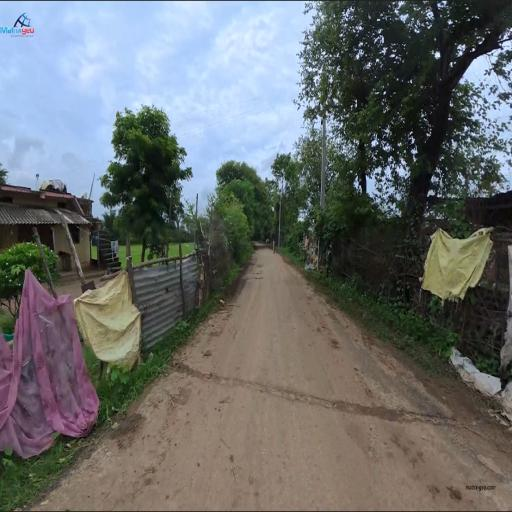longitudinal_crack: (202, 351, 372, 433), (383, 394, 434, 440)
